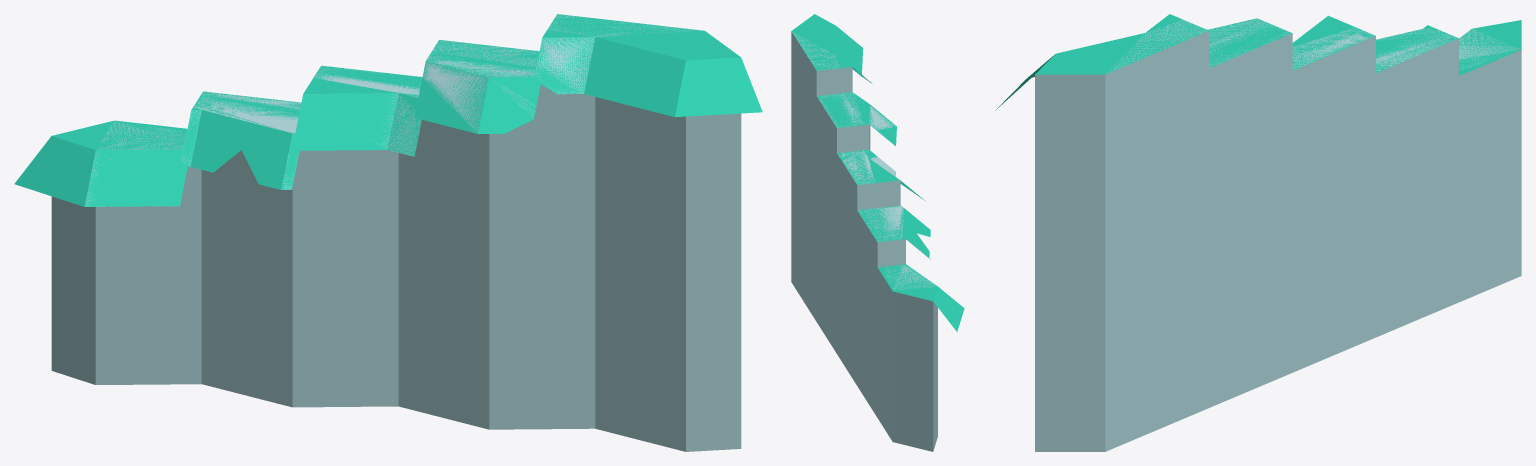
Rendered from cliff_stairBorderDiagonal_upper_right_stone.fbx.
3 renders of one model, left to right at view 1: azimuth 30°, elevation 25°; view 2: azimuth 150°, elevation 25°; view 3: azimuth 270°, elevation 25°, orthographic. The views are drawn at different scales.
Parts seen in each view (by area): view 1: cliff_topDiagonal_stone; view 2: cliff_topDiagonal_stone; view 3: cliff_topDiagonal_stone.
Part boxes in pixels (x1,y1,x2,y2): cliff_topDiagonal_stone: [14, 14, 762, 451]; cliff_topDiagonal_stone: [791, 14, 964, 451]; cliff_topDiagonal_stone: [995, 14, 1521, 451].
Size of the model in its own units: 12.68 by 10 by 12.68.
